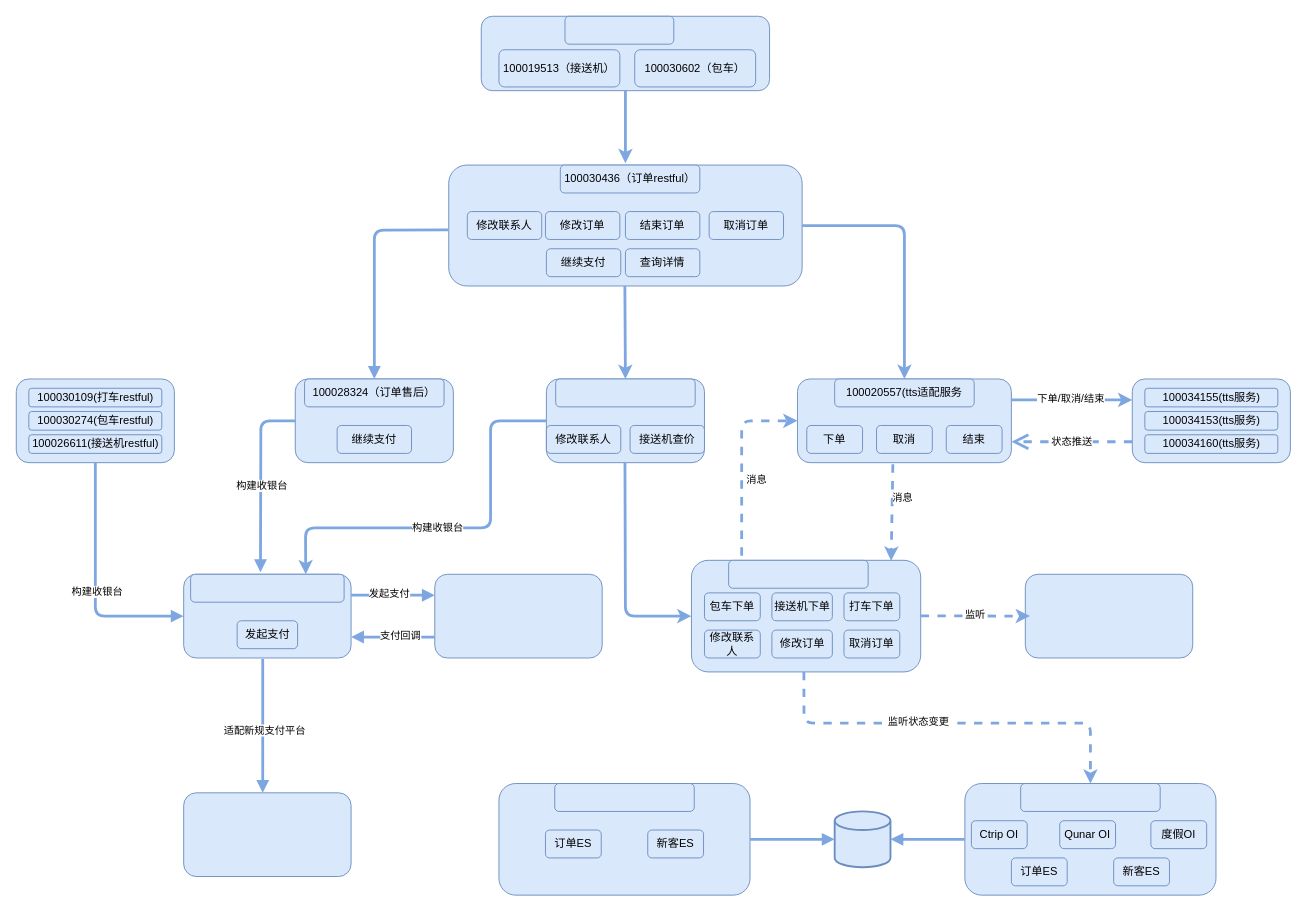
The diagram is 1307 pixels wide and 911 high, and some of its shapes have lost their labels. Each missing label, with the centre of its shape:
"100010262(订单处理服务)" belongs at pixel 798 573.
"100010263订单同步服务 快照数据同步到DB" belongs at pixel 1108 615.
"100010264（订单支付服务）" belongs at pixel 267 587.
"100025506（报价服务）" belongs at pixel 625 392.
"100027262(ES查询服务)" belongs at pixel 624 797.
"100027577(消息处理服务)" belongs at pixel 1090 797.
"100036103支付合规服务" belongs at pixel 267 834.
"CQ支付平台" belongs at pixel 518 615.
"ES" belongs at pixel 862 839.
"前端" belongs at pixel 619 29.
